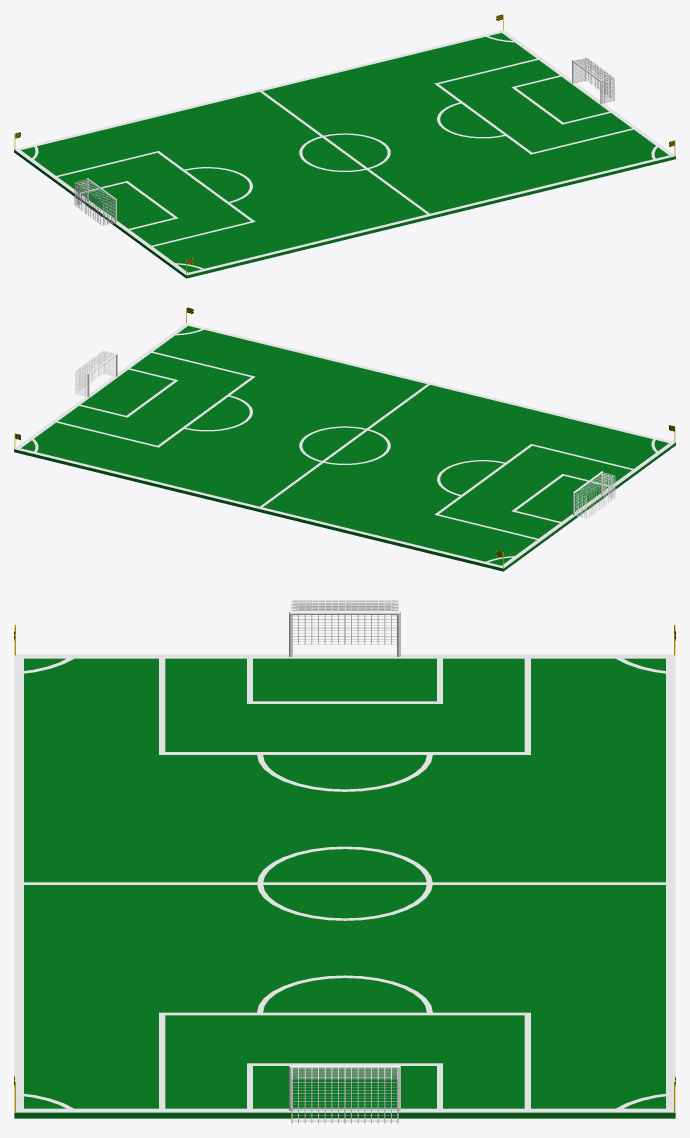
File: footballfield.fbx
The picture shows the model from 3 angles, top to bottom: view 1: azimuth 30°, elevation 25°; view 2: azimuth 150°, elevation 25°; view 3: azimuth 270°, elevation 25°; orthographic projection. The views are drawn at different scales.
Parts seen in each view (by area): view 1: footballfield; view 2: footballfield; view 3: footballfield.
Part boxes in pixels (<box>): footballfield: <box>14,14,675,278</box>; footballfield: <box>14,307,675,571</box>; footballfield: <box>14,600,675,1123</box>.
Bounding box in the file's own units: 16141 × 797 × 9423.
